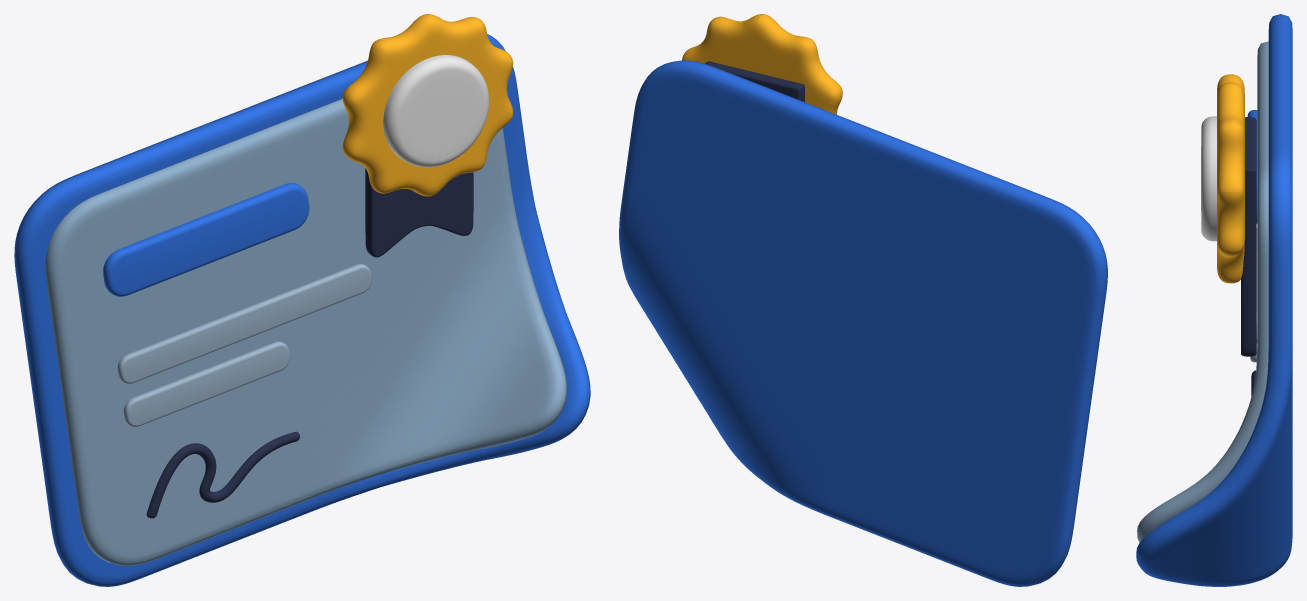
Rendered from landscape-certificate-animated-3d-icon-717698155821.glb.
The picture shows the model from 3 angles, left to right: view 1: azimuth 30°, elevation 25°; view 2: azimuth 150°, elevation 25°; view 3: azimuth 270°, elevation 25°; orthographic projection. The views are drawn at different scales.
Visible parts, largest first — view 1: Retopo_Plane.005, Retopo_Plane.003, Retopo_Circle.013, Plane.006, Circle.012, Plane.007, Retopo_Plane.009, Plane.008, NurbsPath; view 2: Retopo_Plane.003, Retopo_Circle.013, Retopo_Plane.009; view 3: Retopo_Plane.003, Retopo_Plane.005, Retopo_Circle.013, Retopo_Plane.009, Circle.012, Plane.006, Plane.007.
Boxes of the visible parts, left/top/right/bottom form: Retopo_Plane.005: left=45, top=99, right=567, bottom=566; Retopo_Plane.003: left=14, top=34, right=590, bottom=586; Retopo_Circle.013: left=342, top=14, right=513, bottom=196; Plane.006: left=103, top=183, right=309, bottom=296; Circle.012: left=383, top=55, right=489, bottom=167; Plane.007: left=117, top=264, right=371, bottom=383; Retopo_Plane.009: left=365, top=168, right=473, bottom=257; Plane.008: left=123, top=341, right=289, bottom=426; NurbsPath: left=146, top=431, right=299, bottom=518; Retopo_Plane.003: left=619, top=60, right=1107, bottom=586; Retopo_Circle.013: left=682, top=14, right=842, bottom=114; Retopo_Plane.009: left=705, top=61, right=804, bottom=101; Retopo_Plane.003: left=1136, top=14, right=1292, bottom=586; Retopo_Plane.005: left=1137, top=41, right=1268, bottom=542; Retopo_Circle.013: left=1217, top=74, right=1244, bottom=283; Retopo_Plane.009: left=1241, top=117, right=1256, bottom=356; Circle.012: left=1201, top=116, right=1216, bottom=241; Plane.006: left=1247, top=110, right=1257, bottom=223; Plane.007: left=1256, top=228, right=1257, bottom=343.
Bounding box in the file's own units: 2.29 × 2.16 × 0.5617.
